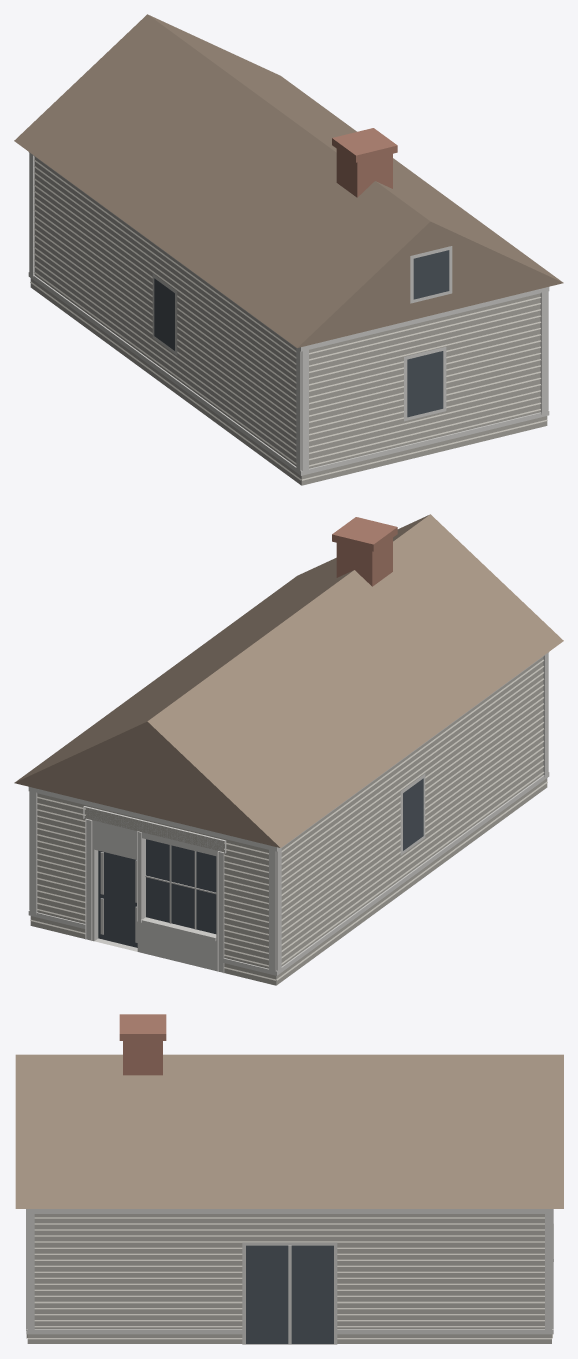
File: recon_1835_south_c2_036__inferred_1835.glb
3 views of the same model, one above another, from view 1: azimuth 30°, elevation 25°; view 2: azimuth 150°, elevation 25°; view 3: azimuth 270°, elevation 25° (orthographic). The views are drawn at different scales.
Visible parts, largest first — view 1: recon_1835_south_c2_036__inferred_1835; view 2: recon_1835_south_c2_036__inferred_1835; view 3: recon_1835_south_c2_036__inferred_1835.
Boxes of the visible parts, x1,y1,x2,y2 form: recon_1835_south_c2_036__inferred_1835: (14,14,563,485); recon_1835_south_c2_036__inferred_1835: (14,514,563,985); recon_1835_south_c2_036__inferred_1835: (15,1014,563,1344).
Bounding box in the file's own units: 6.27 × 6.08 × 11.57.
